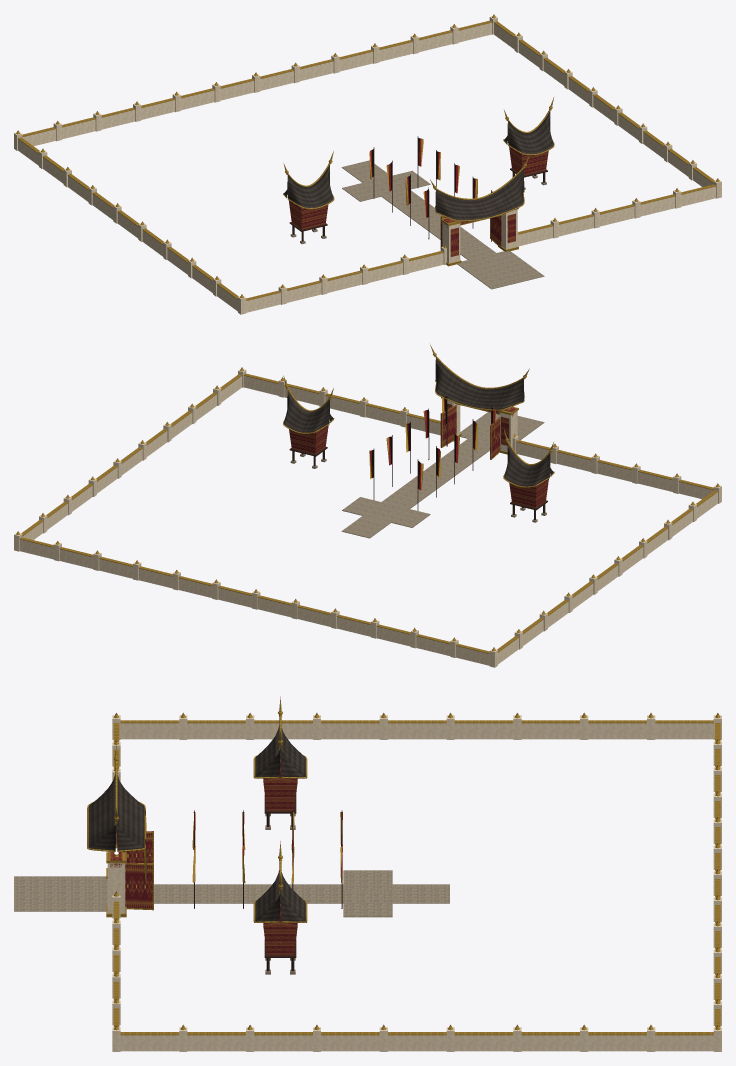
File: compound.glb
The picture shows the model from 3 angles, top to bottom: view 1: azimuth 30°, elevation 25°; view 2: azimuth 150°, elevation 25°; view 3: azimuth 270°, elevation 25°; orthographic projection. The views are drawn at different scales.
Parts seen in each view (by area): view 1: pagar, halaman, gerbang, rangkiang_L, rangkiang_R; view 2: pagar, halaman, gerbang, rangkiang_L, rangkiang_R, gate_door_R; view 3: pagar, halaman, gerbang, rangkiang_R, rangkiang_L, gate_door_R.
Boxes of the visible parts, box(x1,y1,x2,y2) form: pagar: box(14, 14, 721, 314); halaman: box(341, 136, 544, 289); gerbang: box(430, 155, 529, 266); rangkiang_L: box(283, 151, 334, 244); rangkiang_R: box(503, 97, 554, 189); pagar: box(14, 367, 721, 667); halaman: box(341, 395, 544, 538); gerbang: box(430, 344, 529, 454); rangkiang_L: box(503, 430, 554, 522); rangkiang_R: box(283, 375, 334, 468); gate_door_R: box(440, 405, 456, 447); pagar: box(112, 712, 721, 1051); halaman: box(14, 810, 449, 917); gerbang: box(87, 742, 145, 917); rangkiang_R: box(253, 841, 307, 974); rangkiang_L: box(253, 696, 307, 829); gate_door_R: box(125, 862, 153, 910).
Bounding box in the file's own units: 54.6 × 9.63 × 51.8.
Materials: 8 (7 with a texture image).
